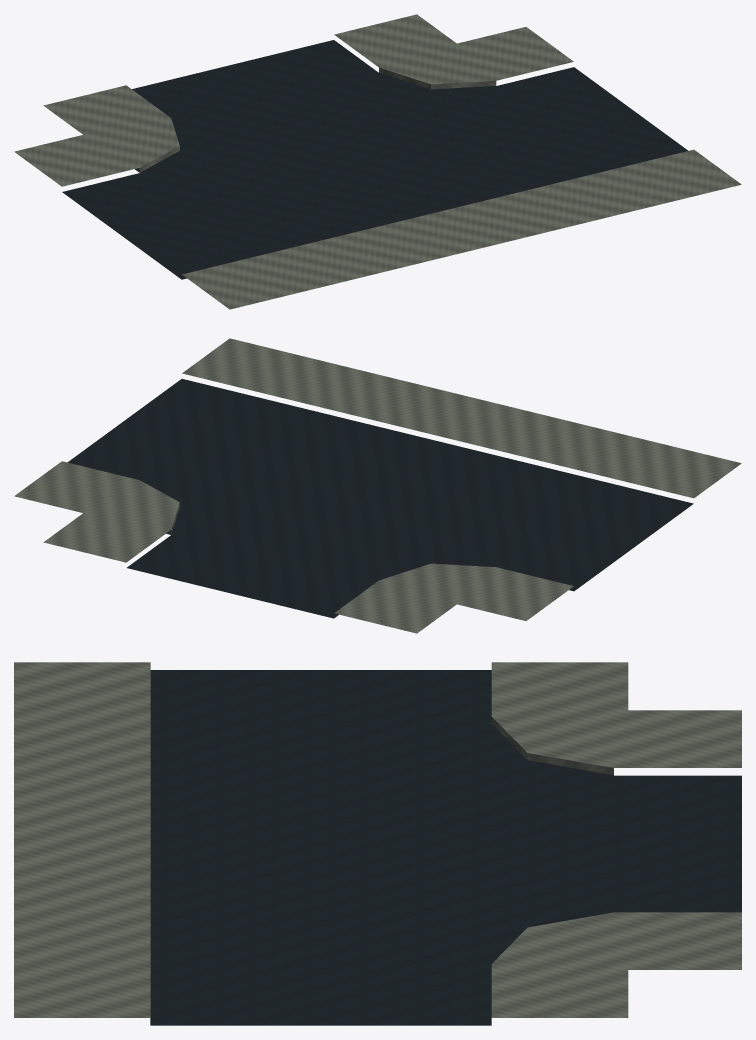
Rendered from junc_tee_2x2_ShadowProxy.glb.
The picture shows the model from 3 angles, top to bottom: view 1: azimuth 30°, elevation 25°; view 2: azimuth 150°, elevation 25°; view 3: azimuth 270°, elevation 25°; orthographic projection. The views are drawn at different scales.
Visible parts, largest first — view 1: junc_tee_2x2__surface.003, junc_tee_2x2__rounded_corner_curb.003; view 2: junc_tee_2x2__surface.003, junc_tee_2x2__rounded_corner_curb.003; view 3: junc_tee_2x2__surface.003, junc_tee_2x2__rounded_corner_curb.003.
Boxes of the visible parts, x1=… form: junc_tee_2x2__surface.003: x1=62, y1=40, x2=688, y2=279; junc_tee_2x2__rounded_corner_curb.003: x1=14, y1=14, x2=741, y2=309; junc_tee_2x2__surface.003: x1=67, y1=379, x2=693, y2=618; junc_tee_2x2__rounded_corner_curb.003: x1=14, y1=338, x2=741, y2=633; junc_tee_2x2__surface.003: x1=150, y1=670, x2=741, y2=1025; junc_tee_2x2__rounded_corner_curb.003: x1=14, y1=662, x2=741, y2=1017.
Size of the model in its own units: 14.8 by 0.145 by 12.8.
Materials: 3 (3 with a texture image).
